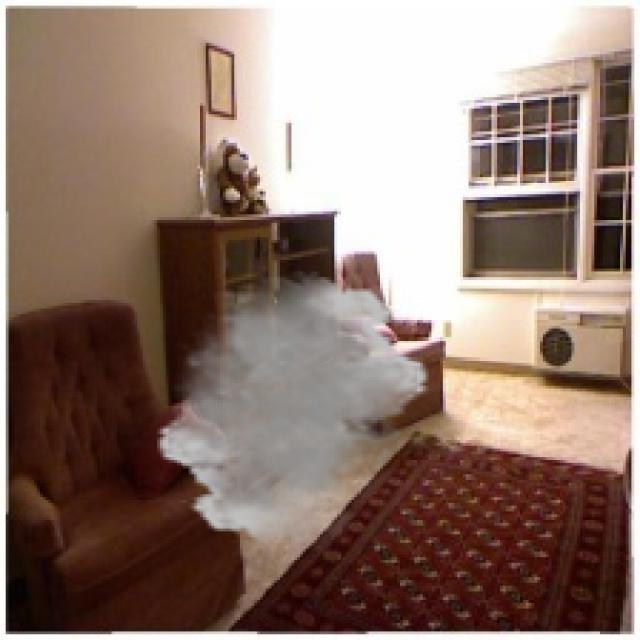Smoke: (154, 272, 432, 548)
